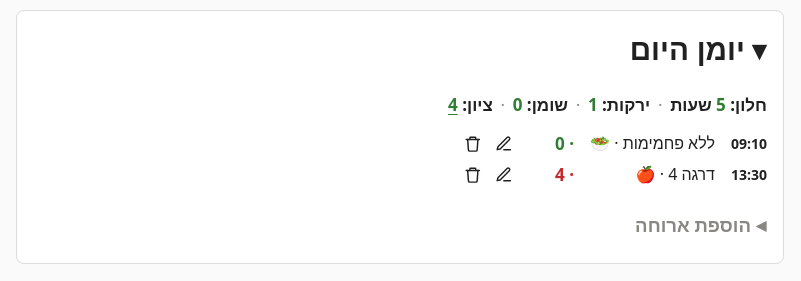
Test: DayTracker › keeps the meals readable under a folded journal, without their controls
The width and height of the screenshot is (801, 281).
Click the button "יומן היום": (698, 48) [629,27,767,70]
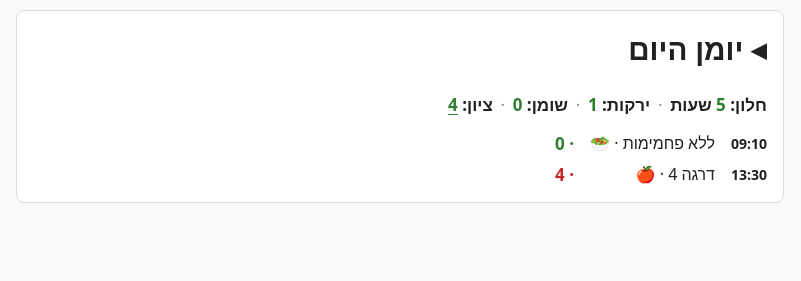
expect the text "09:10" is shown: met, box [731,134,767,153]
expect the button "הוספת ארוחה" is gone: met
# Opening the journal again renders the rows once, with their controls.
Click the button "יומן היום": (697, 48) [627,27,767,70]
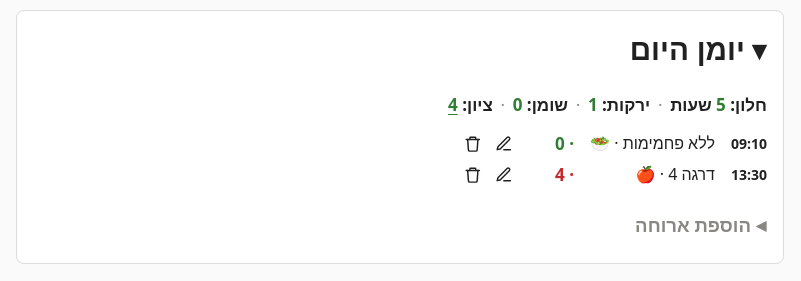
expect the text "09:10" is shown once: met, box [731,134,767,153]
expect the button named "עריכת ארוחה 13:30" is shown: met, box [488,160,519,190]
